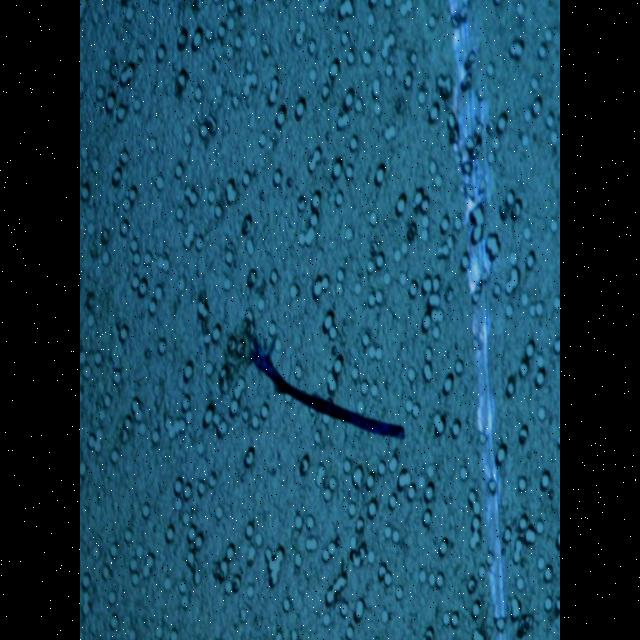Fibre: (237, 308, 408, 470)
